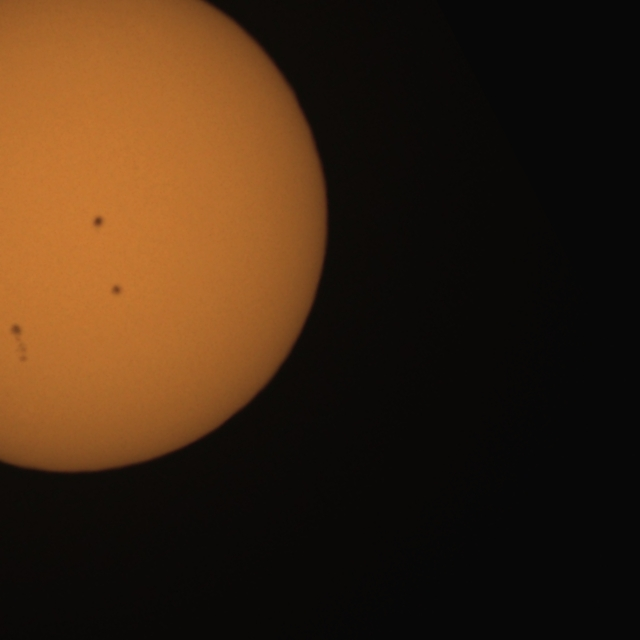sunspot: (8, 322, 29, 365), (91, 214, 106, 230), (109, 283, 124, 298)
